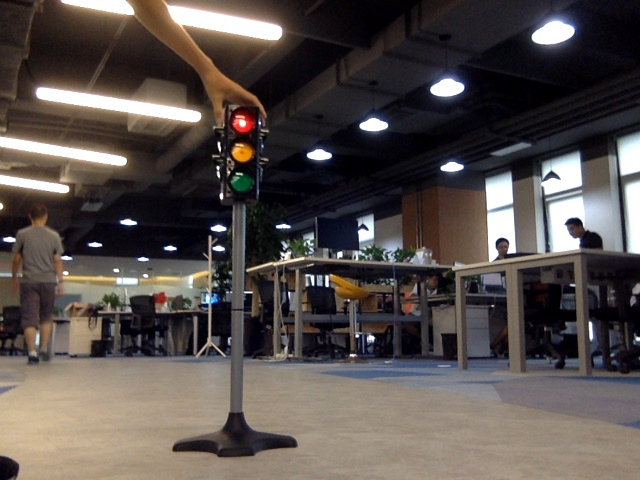red: (226, 111, 258, 190)
